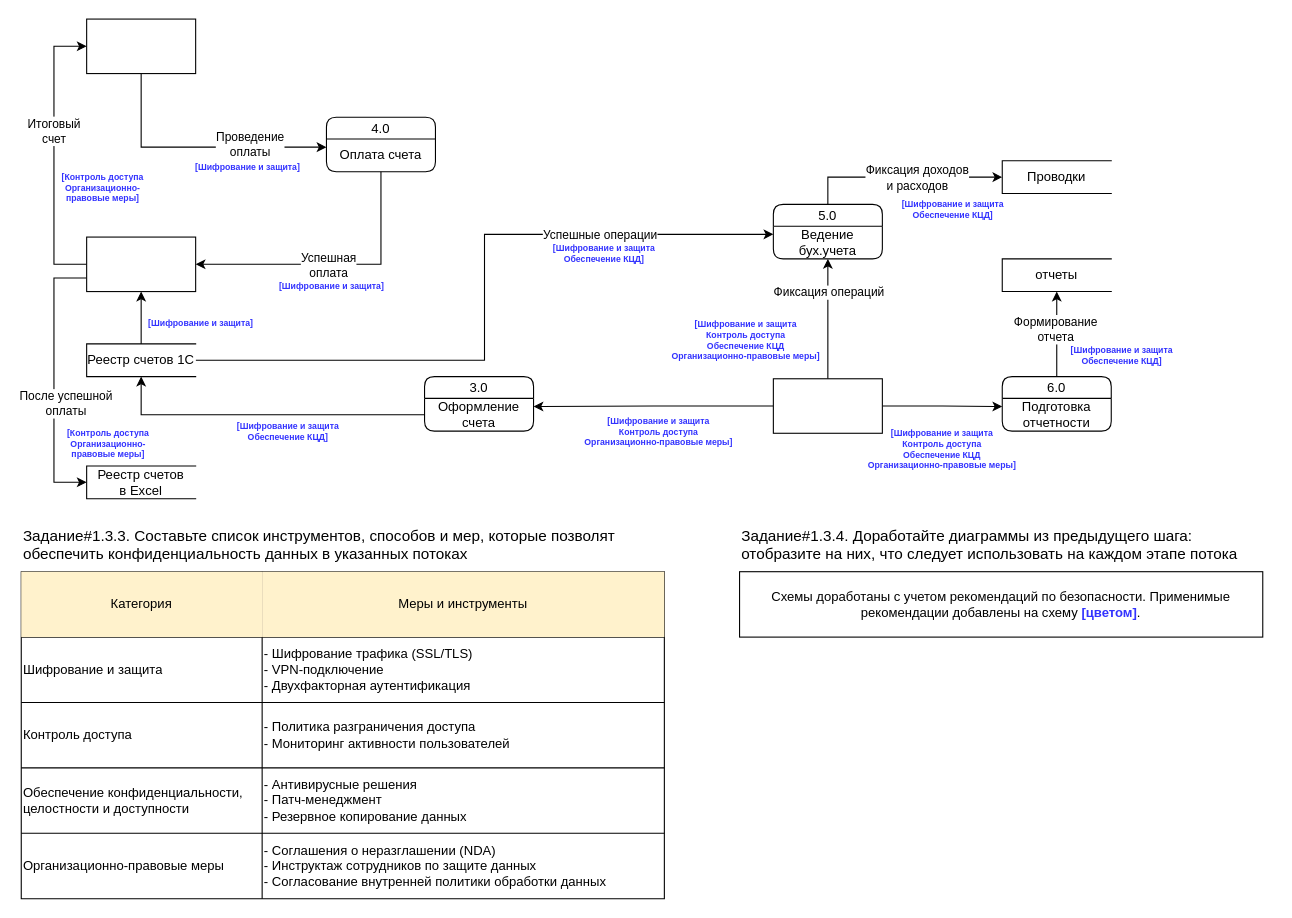
The diagram is 1292 pixels wide and 918 high, and some of its shapes have lost their labels. Here are the shapes that lost their labels. From the top down, the centre of each, then its label:
At point (141, 46): "Пациент".
At point (141, 264): "Кассир".
At point (827, 405): "Бухгалтер".
